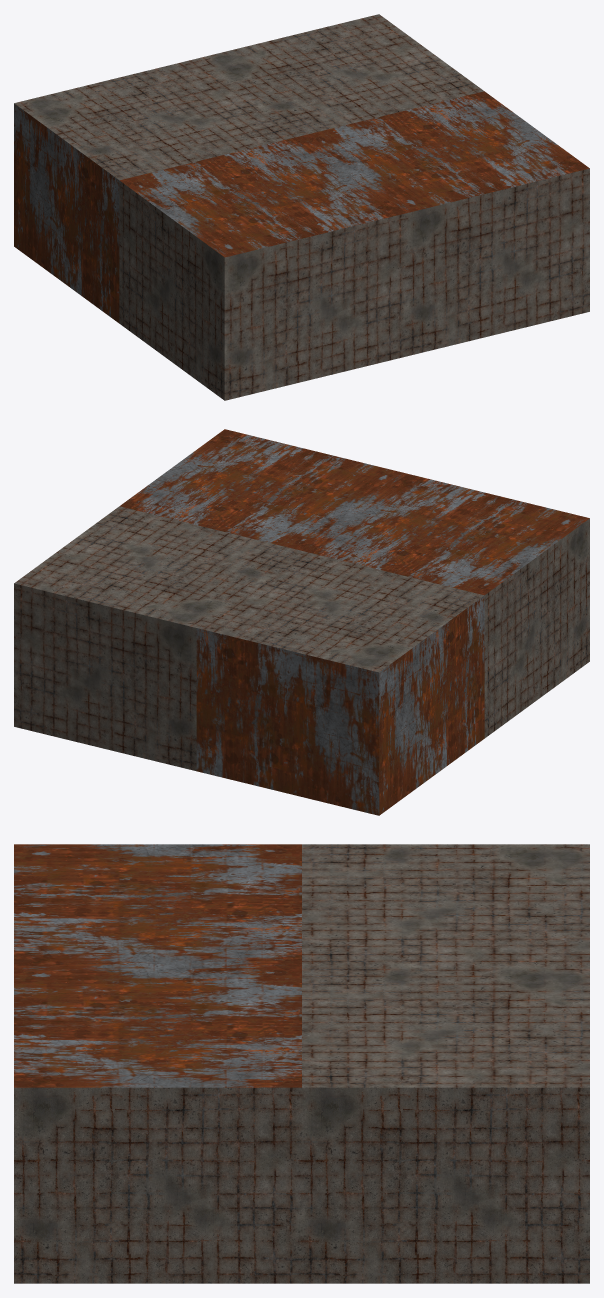
Rendered from secret room.fbx.
3 views of the same model, one above another, from view 1: azimuth 30°, elevation 25°; view 2: azimuth 150°, elevation 25°; view 3: azimuth 270°, elevation 25° (orthographic). The views are drawn at different scales.
Visible parts, largest first — view 1: secret room; view 2: secret room; view 3: secret room.
Boxes of the visible parts, bbox=[...] form: secret room: bbox=[14, 14, 589, 400]; secret room: bbox=[14, 429, 589, 815]; secret room: bbox=[14, 844, 589, 1283].
Bounding box in the file's own units: 1600 × 1600 × 600.
